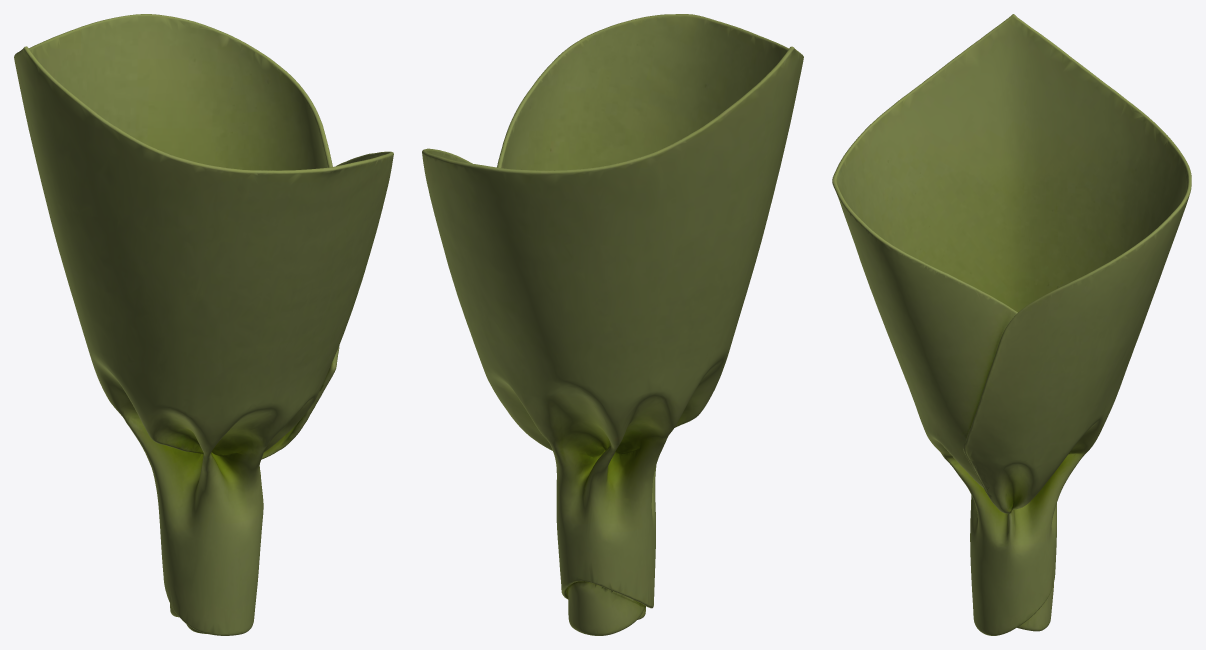
File: green origami sculpture 3d model_opt.glb
3 views of the same model, side by side, from view 1: azimuth 30°, elevation 25°; view 2: azimuth 150°, elevation 25°; view 3: azimuth 270°, elevation 25° (orthographic). The views are drawn at different scales.
Visible parts, largest first — view 1: tripo_node_24585ce0-673c-4844-8d15-0ee06d990b02; view 2: tripo_node_24585ce0-673c-4844-8d15-0ee06d990b02; view 3: tripo_node_24585ce0-673c-4844-8d15-0ee06d990b02.
Part boxes in pixels (left/top/right/bottom): tripo_node_24585ce0-673c-4844-8d15-0ee06d990b02: left=14, top=14, right=393, bottom=635; tripo_node_24585ce0-673c-4844-8d15-0ee06d990b02: left=422, top=14, right=803, bottom=635; tripo_node_24585ce0-673c-4844-8d15-0ee06d990b02: left=832, top=14, right=1191, bottom=635.
Size of the model in its own units: 0.543 by 1 by 0.6114.
1 material, 1 textured.
